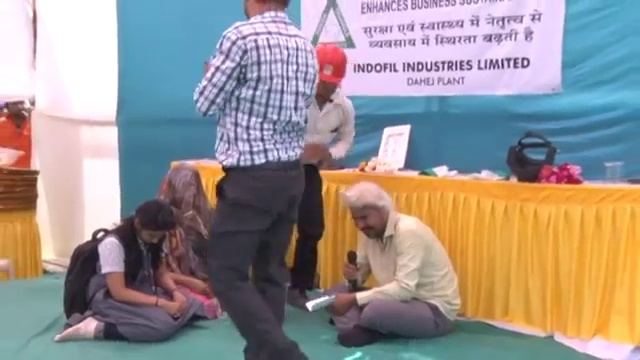helmet: (317, 41, 349, 85), (0, 146, 25, 171)
helmet_off: (338, 182, 400, 244), (161, 168, 208, 225), (125, 200, 178, 248), (6, 98, 28, 129)
helmet_on: (316, 42, 348, 103)
person: (194, 0, 315, 359), (316, 178, 465, 339), (58, 195, 210, 346), (288, 37, 354, 308), (149, 165, 227, 320), (0, 97, 35, 170)
